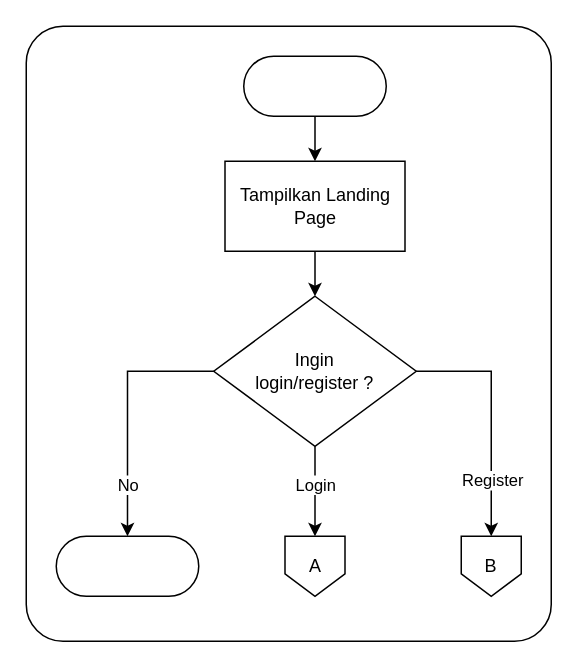
Image size: 578x668. Some labels were removed from this diagram. Here are the shapes that lost their labels. From the top down, the centre of each, then its label:
(x=314, y=85): Mulai
(x=127, y=565): Selesai
